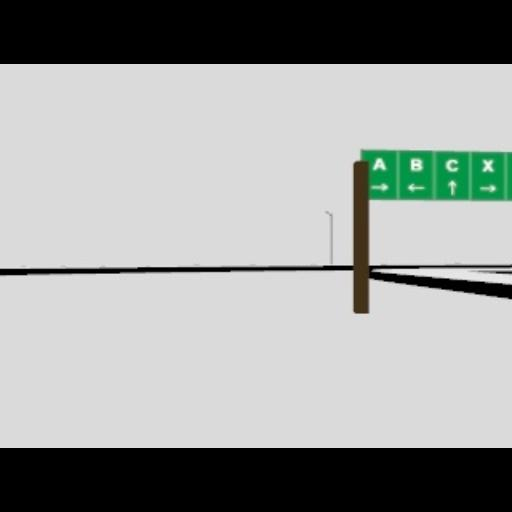A: (371, 156, 385, 170)
B: (410, 156, 422, 170)
C: (444, 158, 458, 172)
Left: (406, 182, 426, 190)
Right: (478, 184, 496, 192), (370, 182, 388, 190)
Straight: (446, 179, 456, 195)
X: (482, 158, 494, 172)
